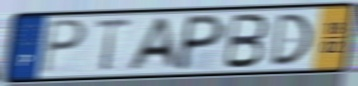A: (124, 16, 181, 72)
B: (221, 13, 271, 71)
D: (268, 12, 314, 68)
P: (173, 12, 228, 73), (40, 19, 88, 76)
T: (93, 16, 135, 73)
